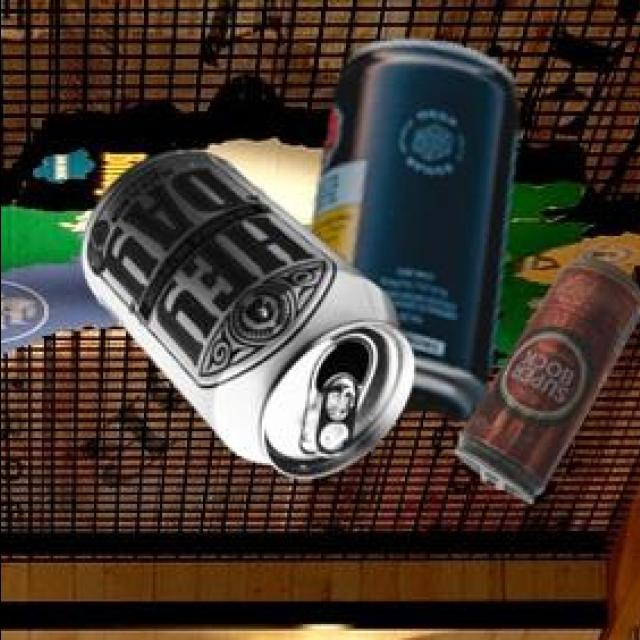logam: (85, 146, 416, 475), (314, 35, 521, 416), (457, 255, 640, 500)
